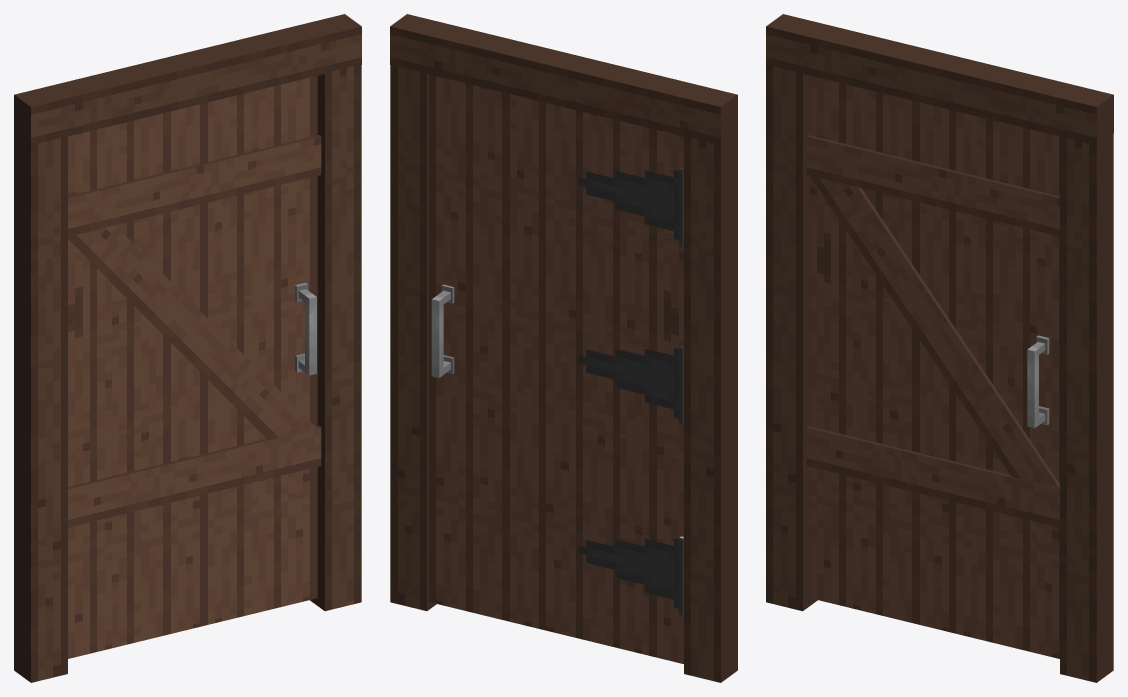
File: door.gltf
3 views of the same model, side by side, from view 1: azimuth 30°, elevation 25°; view 2: azimuth 150°, elevation 25°; view 3: azimuth 330°, elevation 25° (orthographic).
Visible parts, largest first — view 1: Door, rightFrame, leftFrame, topFrame, supportPanelMid, supportPanelTop, supportPanelBot, handle; view 2: Door, rightFrame, leftFrame, topFrame, topHingeSupport, midHingeSupport, bottomHingeSupport, handle; view 3: Door, leftFrame, rightFrame, topFrame, supportPanelMid, supportPanelTop, supportPanelBot, handle.
Boxes of the visible parts, x1=… form: Door: x1=68, y1=75, x2=317, y2=658; rightFrame: x1=14, y1=132, x2=67, y2=682; leftFrame: x1=310, y1=64, x2=361, y2=611; topFrame: x1=14, y1=14, x2=361, y2=145; supportPanelMid: x1=68, y1=192, x2=316, y2=439; supportPanelTop: x1=68, y1=135, x2=321, y2=236; supportPanelBot: x1=68, y1=426, x2=321, y2=527; handle: x1=305, y1=293, x2=316, y2=375; Door: x1=429, y1=74, x2=683, y2=663; rightFrame: x1=684, y1=132, x2=737, y2=682; leftFrame: x1=390, y1=64, x2=436, y2=611; topFrame: x1=390, y1=14, x2=737, y2=144; topHingeSupport: x1=572, y1=145, x2=678, y2=239; midHingeSupport: x1=572, y1=323, x2=678, y2=418; bottomHingeSupport: x1=571, y1=513, x2=678, y2=608; handle: x1=431, y1=296, x2=443, y2=377; Door: x1=809, y1=75, x2=1059, y2=658; leftFrame: x1=1060, y1=133, x2=1113, y2=682; rightFrame: x1=766, y1=64, x2=817, y2=611; topFrame: x1=766, y1=14, x2=1113, y2=145; supportPanelMid: x1=810, y1=139, x2=1059, y2=488; supportPanelTop: x1=806, y1=135, x2=1059, y2=236; supportPanelBot: x1=806, y1=426, x2=1059, y2=527; handle: x1=1027, y1=346, x2=1038, y2=428.
Bounding box in the file's own units: 5.62 × 9.36 × 1.11.
Materials: 1 (1 with a texture image).
